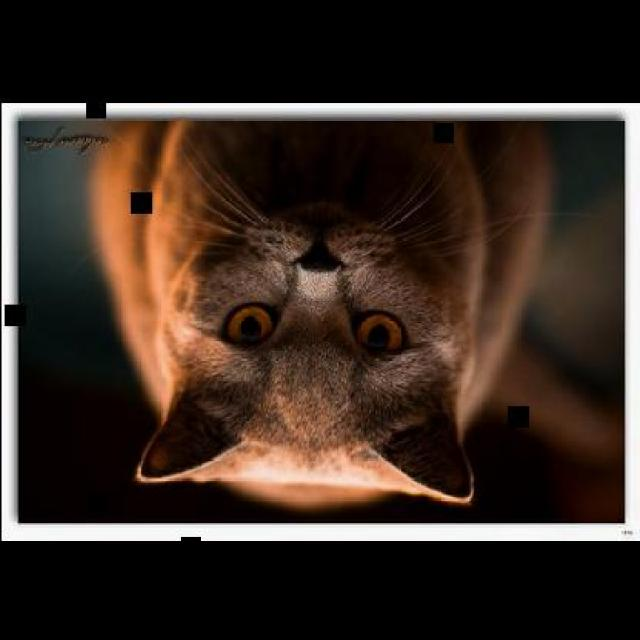unauthorized: (85, 117, 557, 514)
